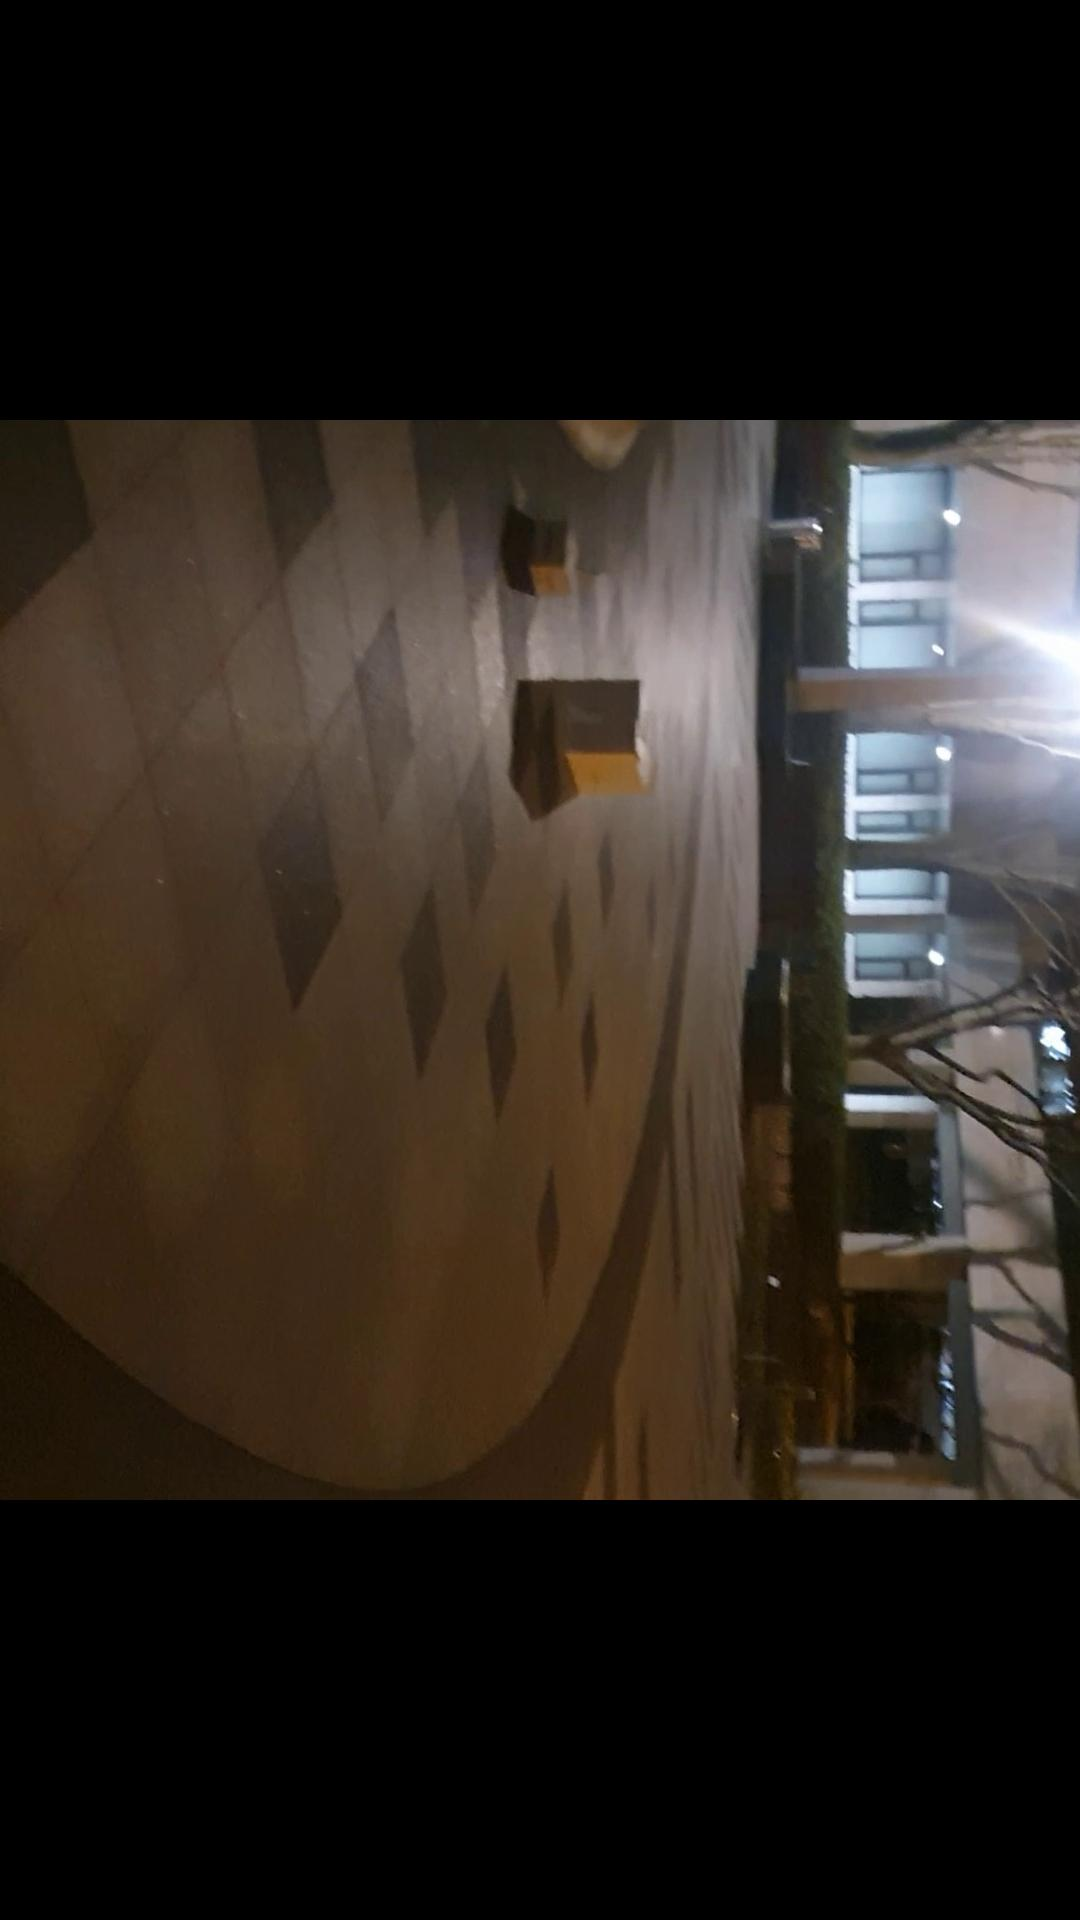Box: (553, 678, 657, 807), (531, 531, 597, 620)
